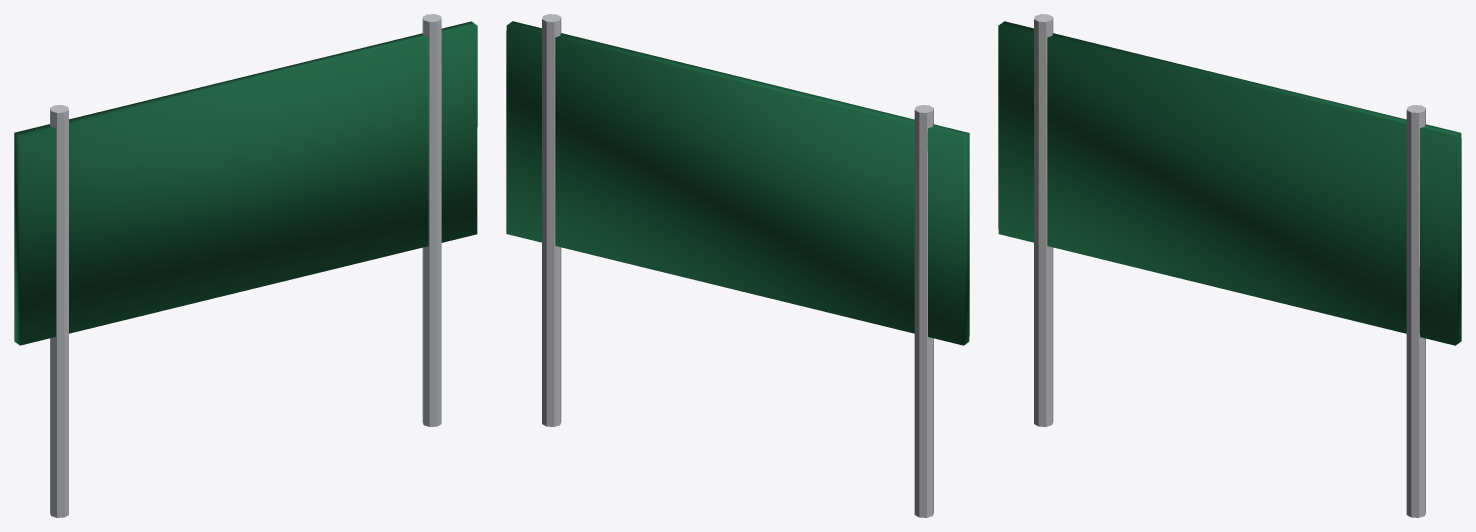
The model's file is site_sign_LOD1.glb.
3 renders of one model, left to right at view 1: azimuth 30°, elevation 25°; view 2: azimuth 150°, elevation 25°; view 3: azimuth 330°, elevation 25°, orthographic.
Visible parts, largest first — view 1: Body_LOD1; view 2: Body_LOD1; view 3: Body_LOD1.
Part boxes in pixels (x1,y1,x2,y2): Body_LOD1: (14, 14, 477, 517); Body_LOD1: (506, 14, 969, 517); Body_LOD1: (998, 14, 1461, 517).
Bounding box in the file's own units: 3.2 × 2.7 × 0.12.
